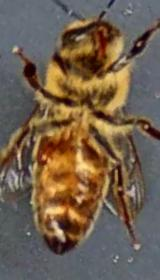varroa_mite: (29, 134, 58, 164)
